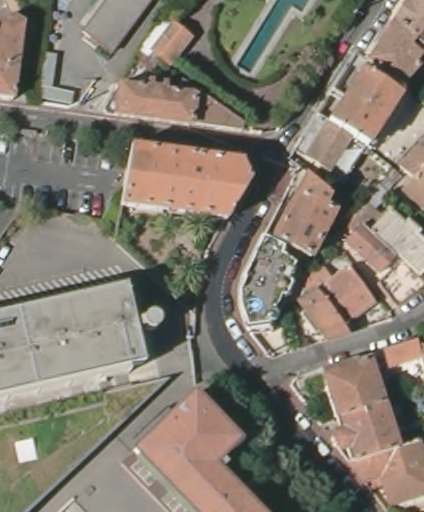pool: (239, 1, 317, 74)
